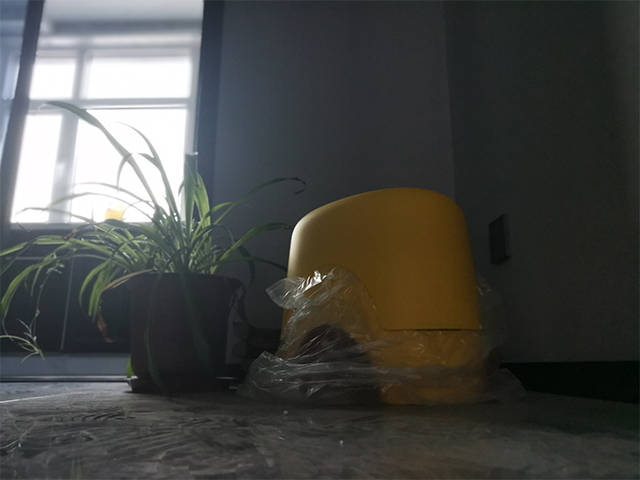cabinet: (1, 222, 136, 375)
stool: (280, 186, 487, 409)
